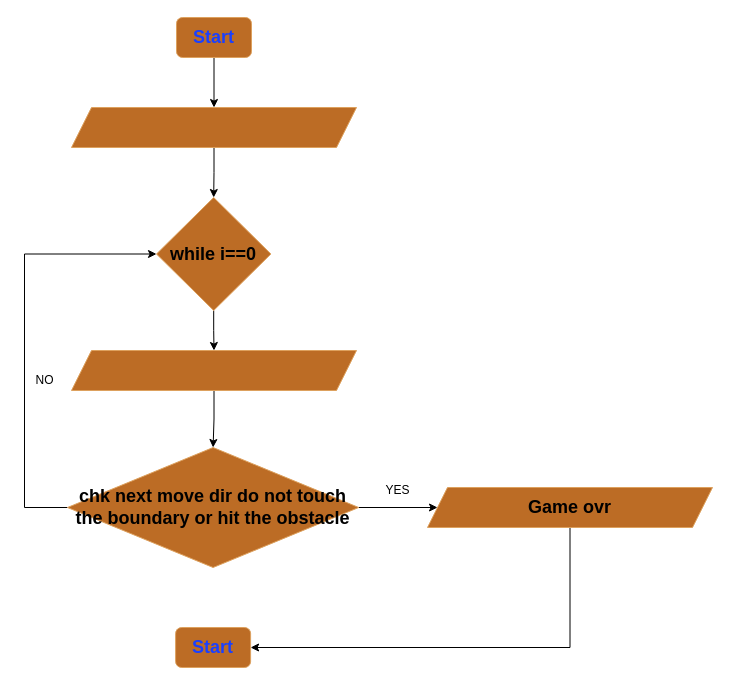
This 730x685 diagram has some shape labels left out. Each missing label, with the centre of its shape:
Input next move: point 213,370
take inp init points, obs co-or: point 213,127
